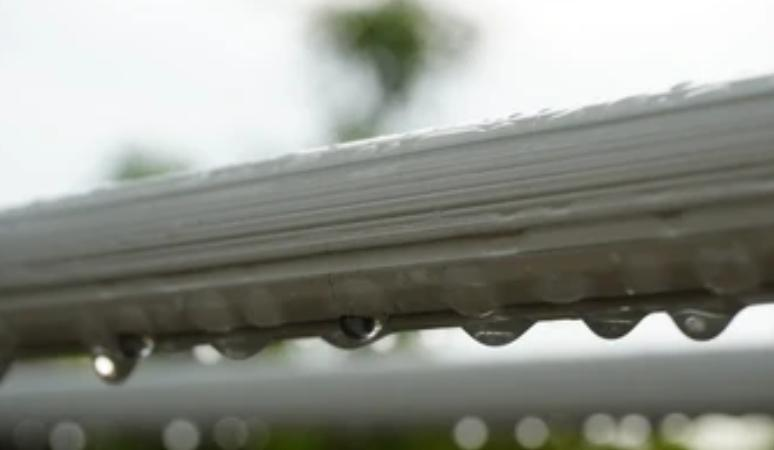water drop: (667, 305, 734, 342), (460, 318, 534, 345), (92, 344, 137, 385), (582, 312, 645, 340), (214, 339, 267, 359), (341, 314, 382, 335)
